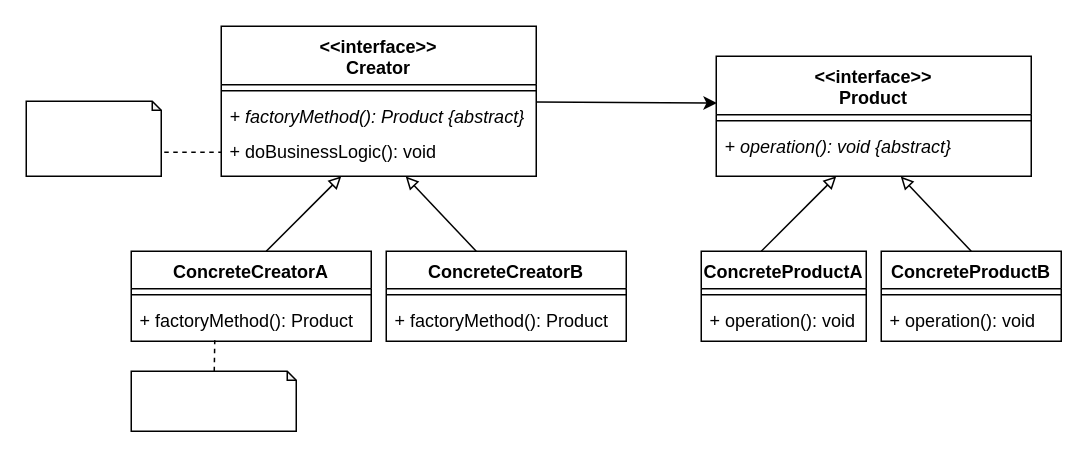
This 1088x458 diagram has some shape labels left out. The shapes that lost their labels are listed below. From the top down, each one's centre as x and y in pixels, then its label:
At (93,138): "Product p = factoryMethod() p.operation()".
At (213,400): "return new ConcreteProductA()".
